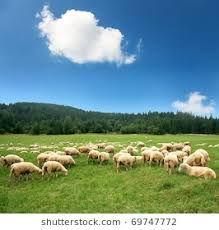sheep: (178, 162, 216, 183), (9, 162, 43, 180), (42, 160, 70, 178), (116, 155, 143, 171), (53, 153, 77, 167), (162, 152, 177, 174), (182, 152, 204, 166), (144, 149, 164, 164), (4, 153, 26, 164), (87, 149, 99, 164), (63, 147, 82, 156), (98, 152, 110, 165), (103, 143, 115, 154), (77, 146, 90, 152)
